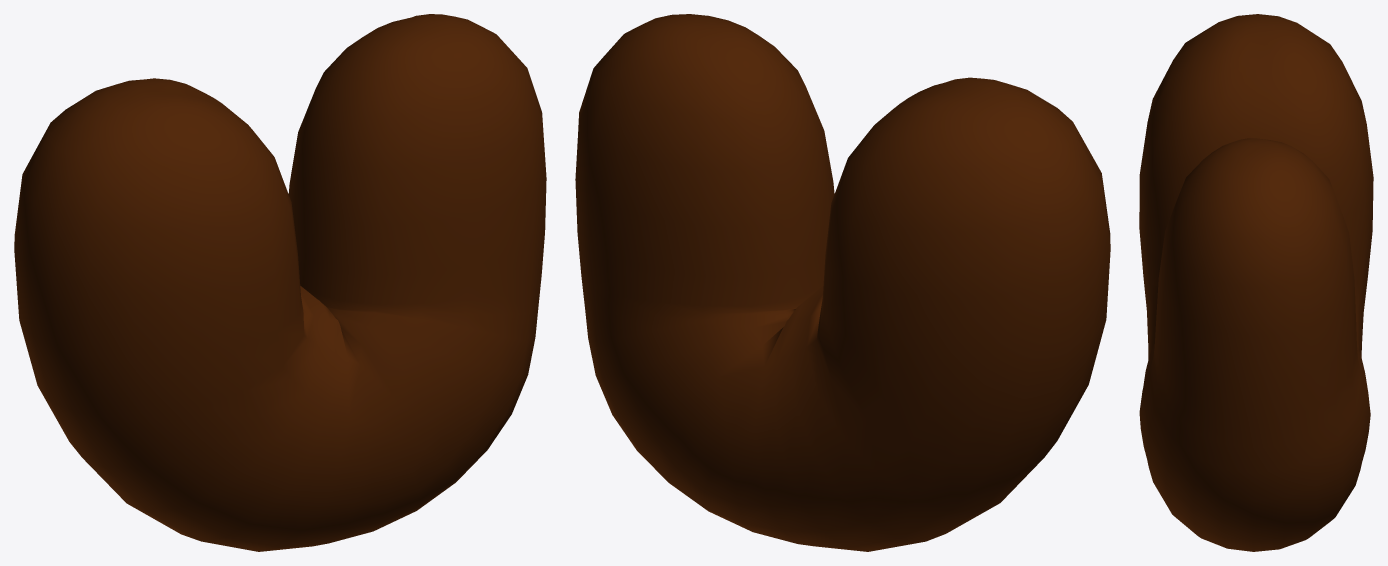
The picture shows the model from 3 angles, left to right: view 1: azimuth 30°, elevation 25°; view 2: azimuth 150°, elevation 25°; view 3: azimuth 270°, elevation 25°; orthographic projection. The views are drawn at different scales.
Visible parts, largest first — view 1: Object_44; view 2: Object_44; view 3: Object_44.
Boxes of the visible parts, x1,y1,x2,y2 form: Object_44: (14,14,546,551); Object_44: (575,14,1110,551); Object_44: (1139,14,1373,551).
Bounding box in the file's own units: 102 × 93.21 × 45.85.
